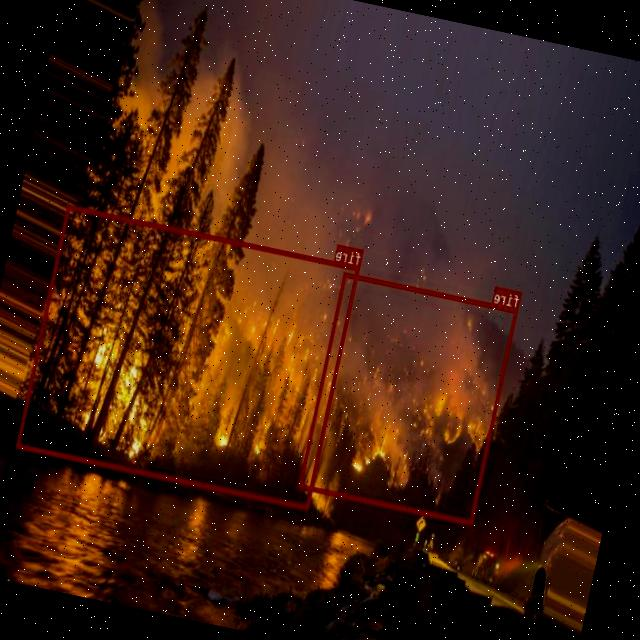fire: (16, 204, 360, 509), (298, 272, 518, 524)
